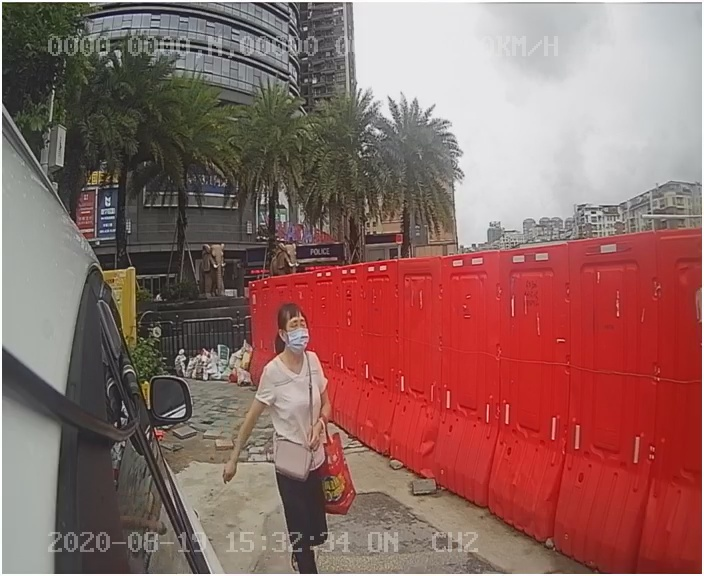person: (223, 301, 364, 534)
